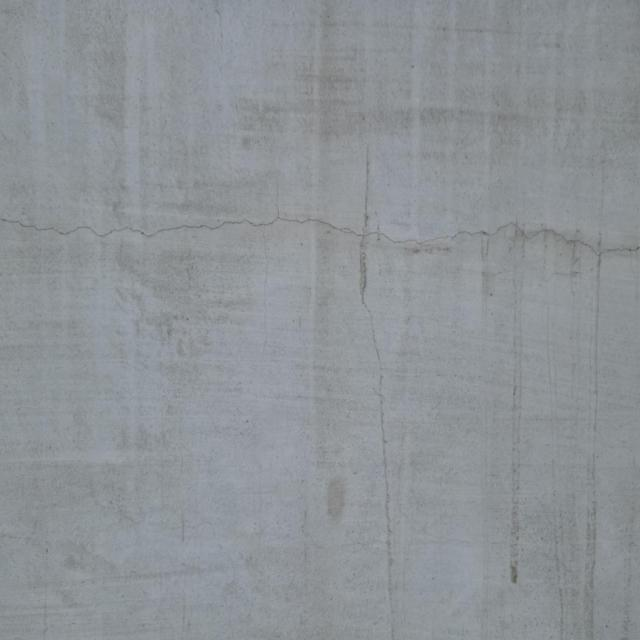SurfaceCrack: (0, 175, 625, 304)
